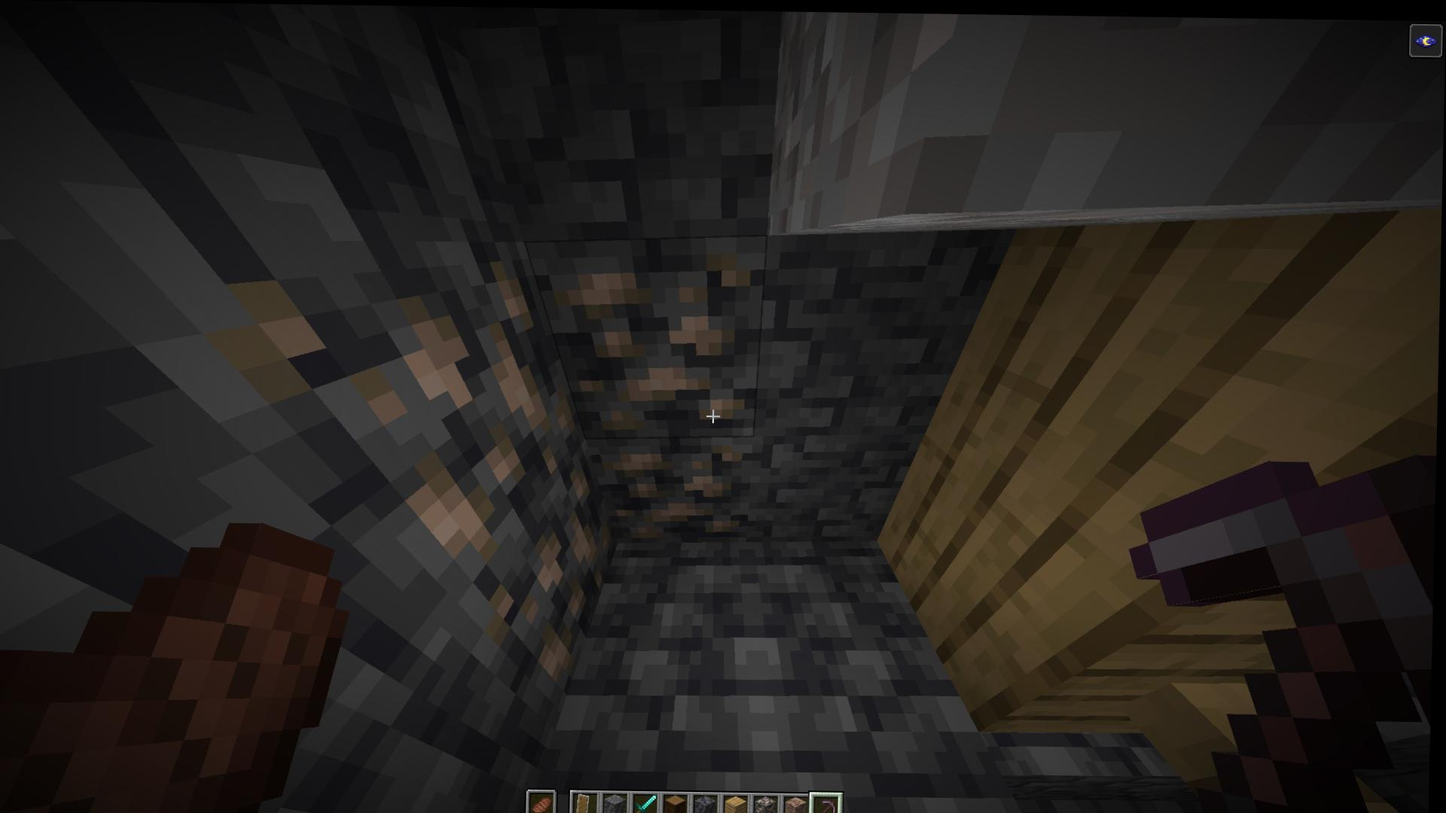iron ore: (278, 261, 562, 553), (554, 255, 775, 431), (490, 460, 618, 676), (604, 439, 758, 536)
